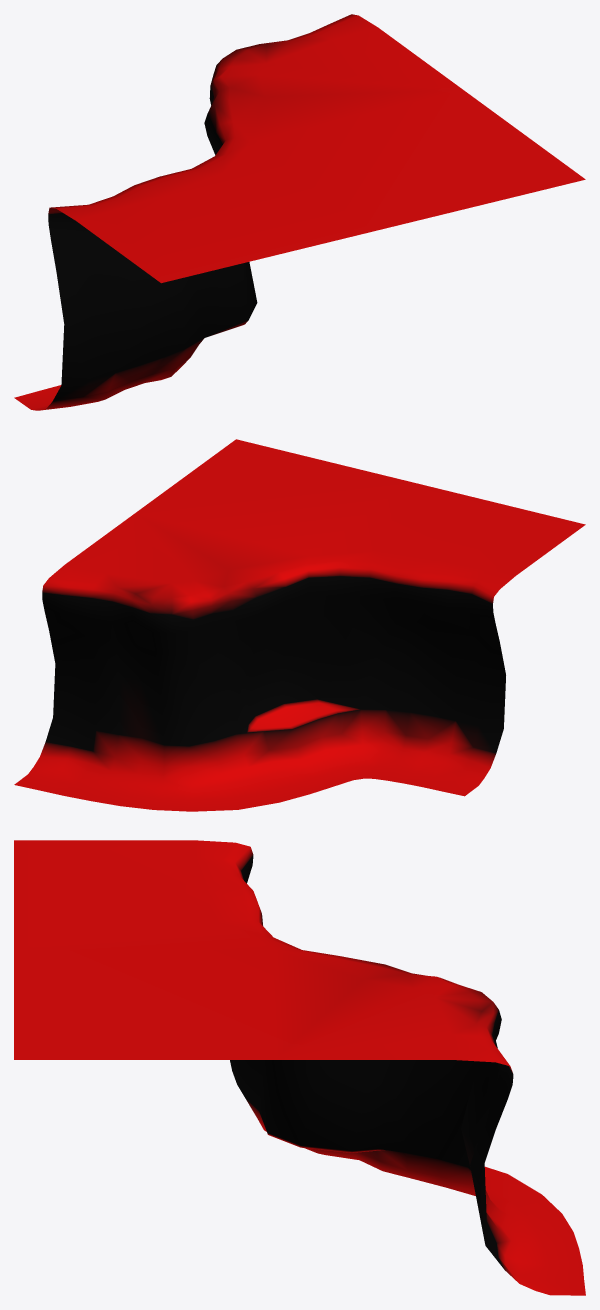
File: GroundCliff05B 1M Background.fbx
3 renders of one model, top to bottom at view 1: azimuth 30°, elevation 25°; view 2: azimuth 150°, elevation 25°; view 3: azimuth 270°, elevation 25°, orthographic. The views are drawn at different scales.
Visible parts, largest first — view 1: GroundCliff05B 1M Background; view 2: GroundCliff05B 1M Background; view 3: GroundCliff05B 1M Background.
Boxes of the visible parts, x1,y1,x2,y2 form: GroundCliff05B 1M Background: (14, 14, 585, 410); GroundCliff05B 1M Background: (14, 439, 585, 811); GroundCliff05B 1M Background: (14, 840, 585, 1295).
Size of the model in its own units: 2 by 1 by 2.2.
